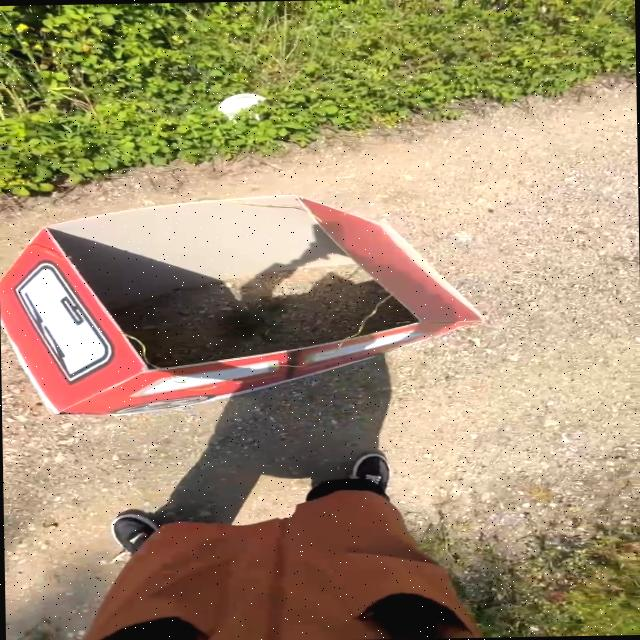red_car: (0, 175, 531, 434)
